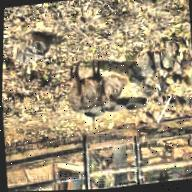boar: (52, 51, 134, 129)
